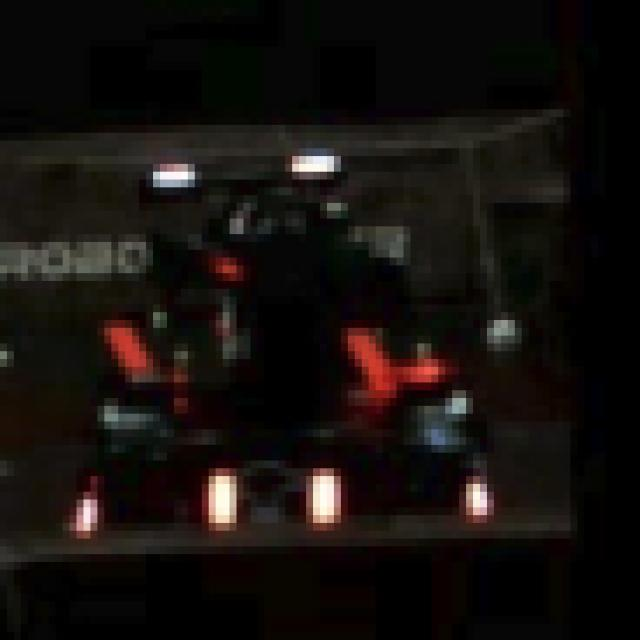Rs: (202, 453, 341, 546)
